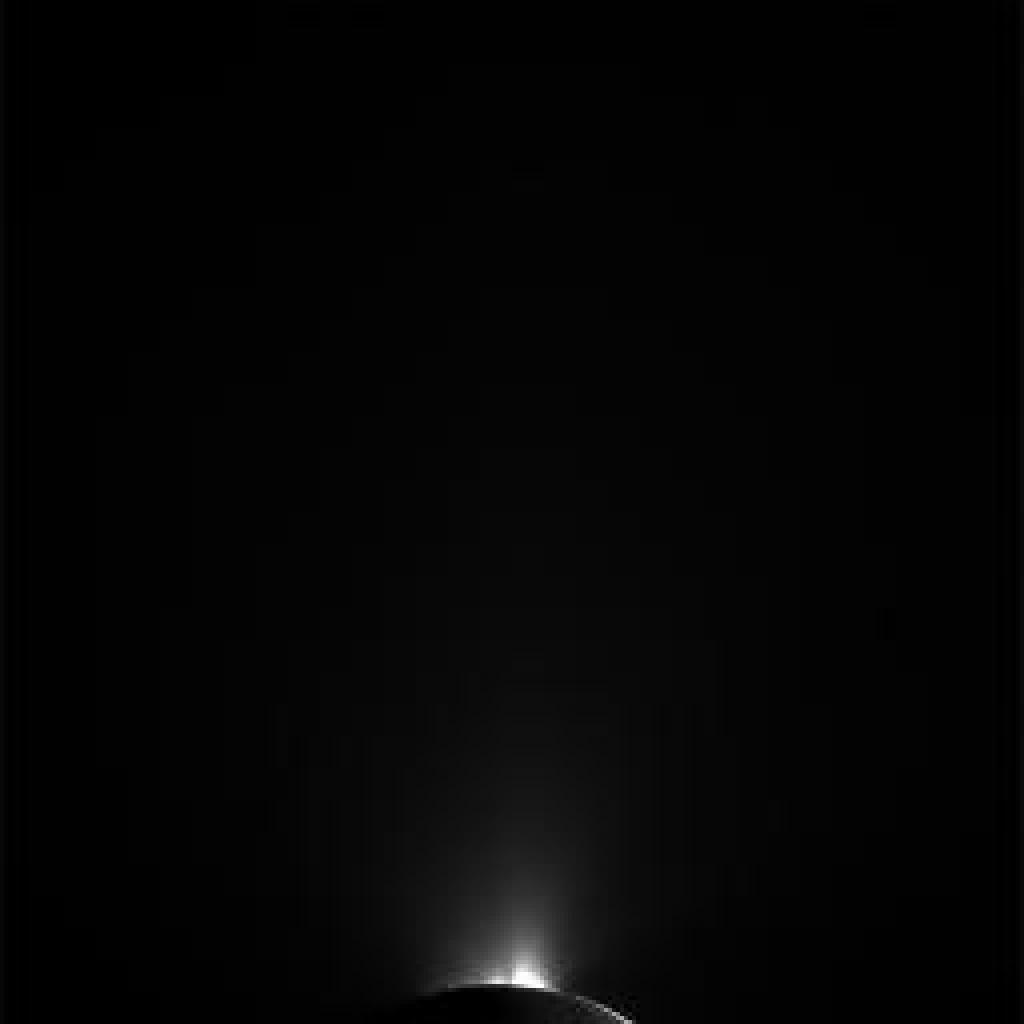plumes: (438, 873, 566, 1002)
